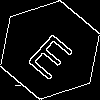E: (25, 25, 82, 81)
